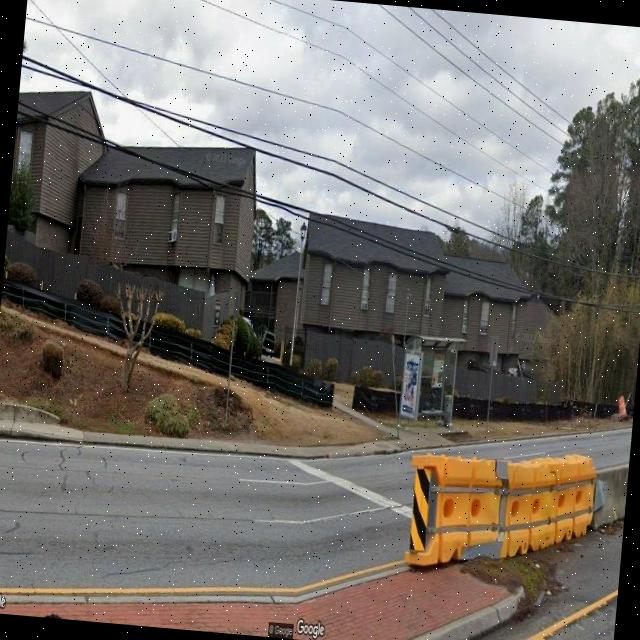seating: (420, 406, 441, 426)
shelter: (395, 332, 467, 432)
trash_can: (442, 394, 454, 426)
